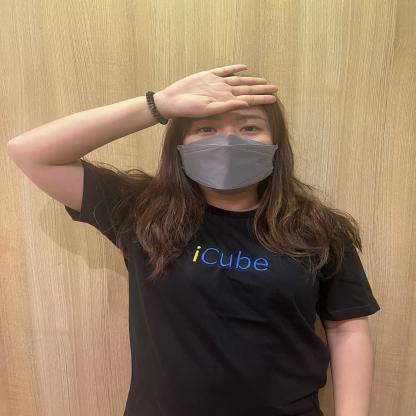Sick: (101, 47, 294, 134)
